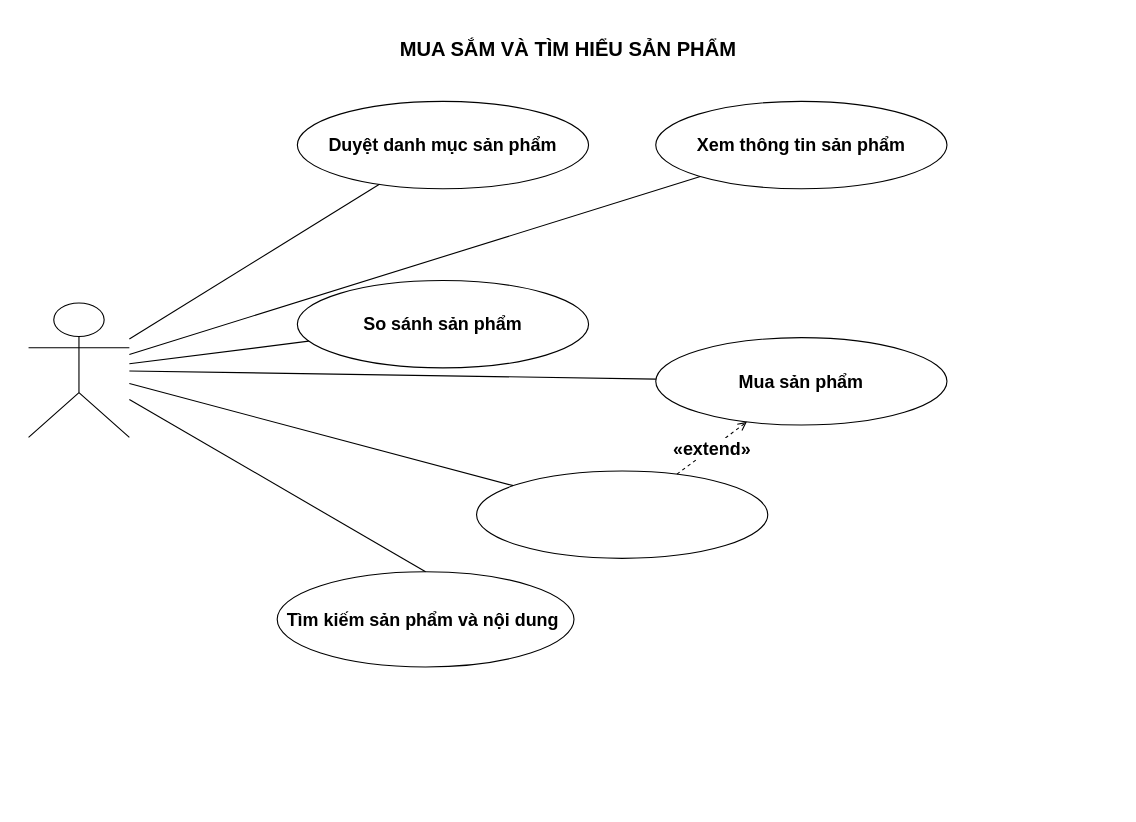
This 1136x822 diagram has some shape labels left out. Here are the shapes that lost their labels. From the top down, the centre of each, then its label:
At point (78, 369): "Khách hàng".
At point (621, 514): "Apple Trade In".
